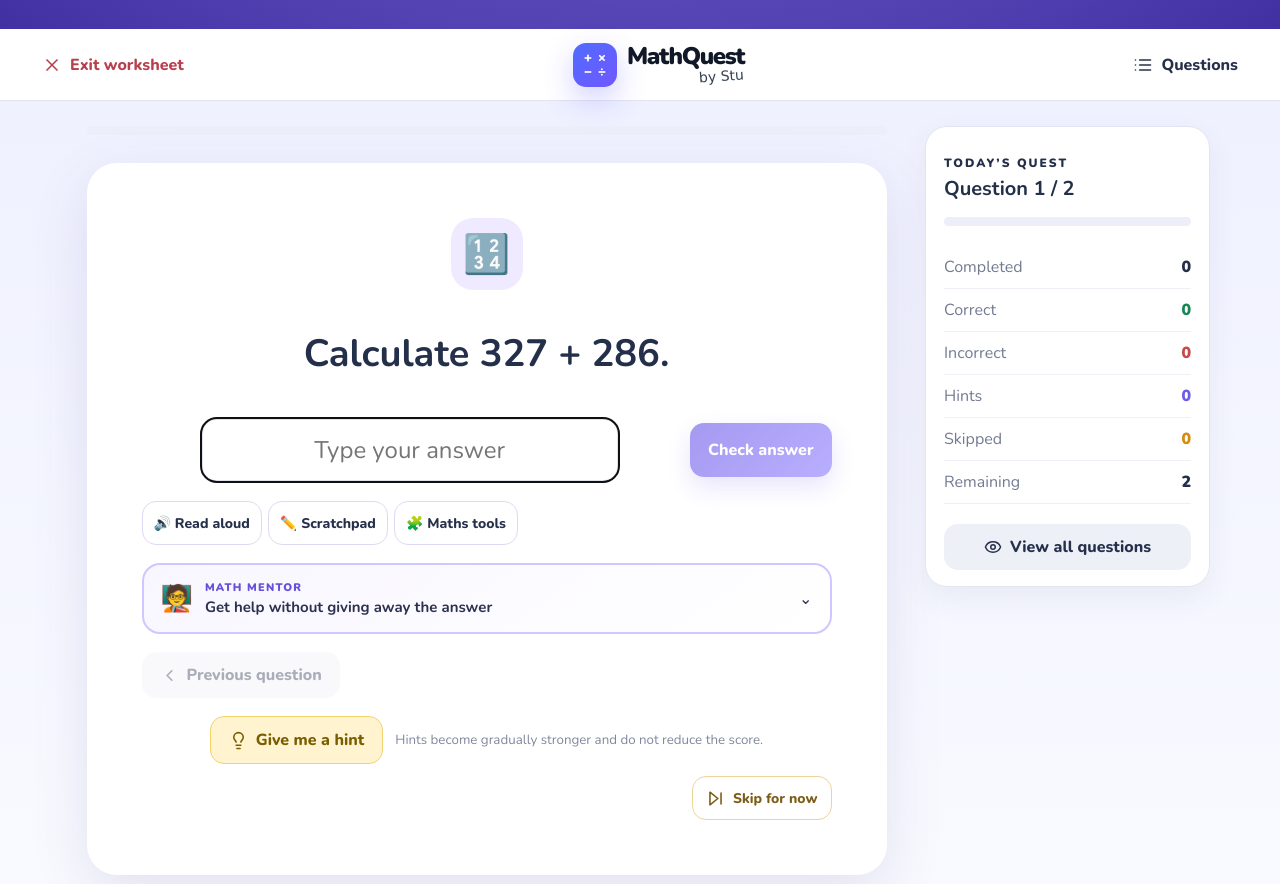
Test: v0.38 iPad landscape answer feedback › keeps Math Mentor optional from retry feedback
(page scrolled)
Type "500" into the field labelled "your answer". click: (410, 450)
box: [200,417,620,483]
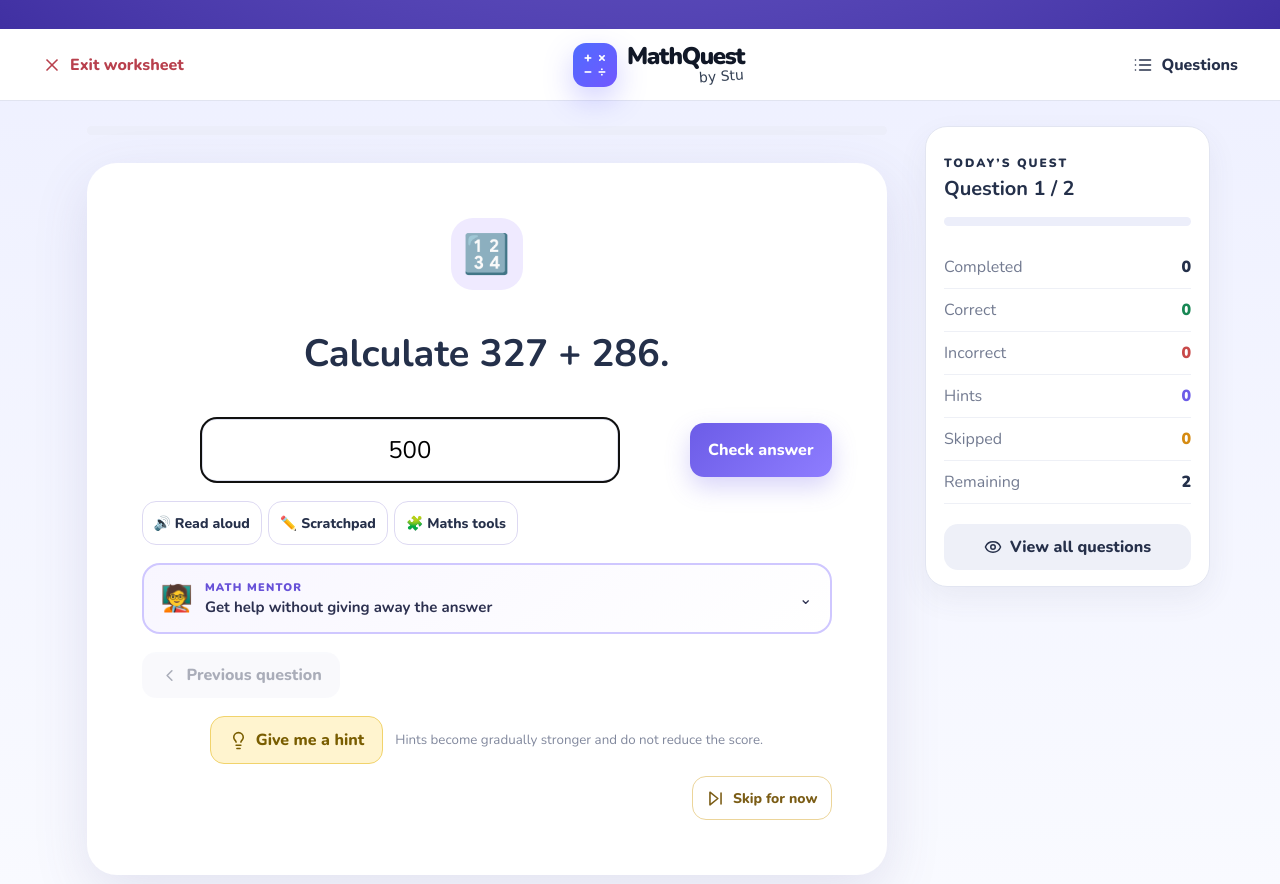
Press Enter in the field named "your answer", box [200,417,620,483]
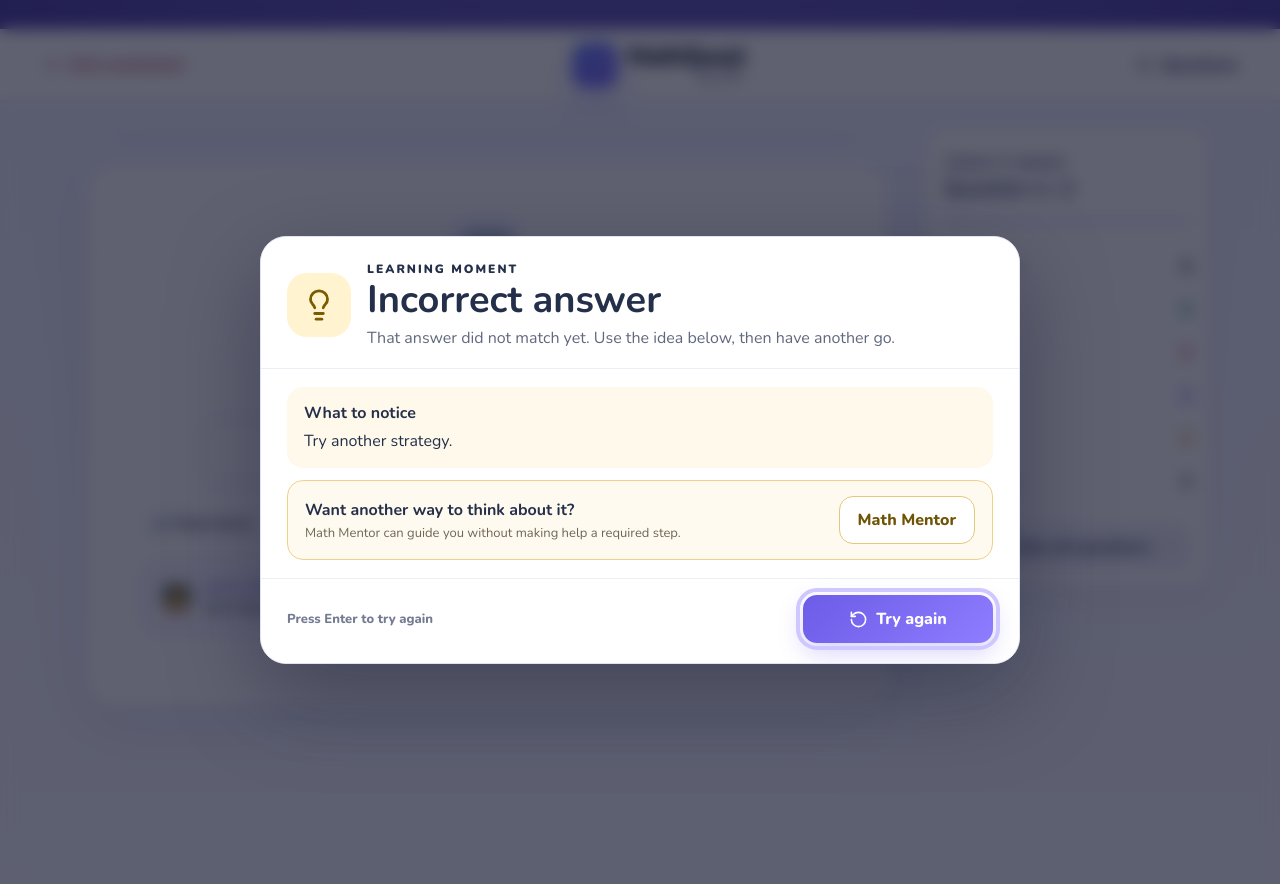
Expected: the dialog "Incorrect answer" is shown, [260,236,1020,664]
Click the button "Math Mentor". click: (907, 520)
box: [839,496,975,544]
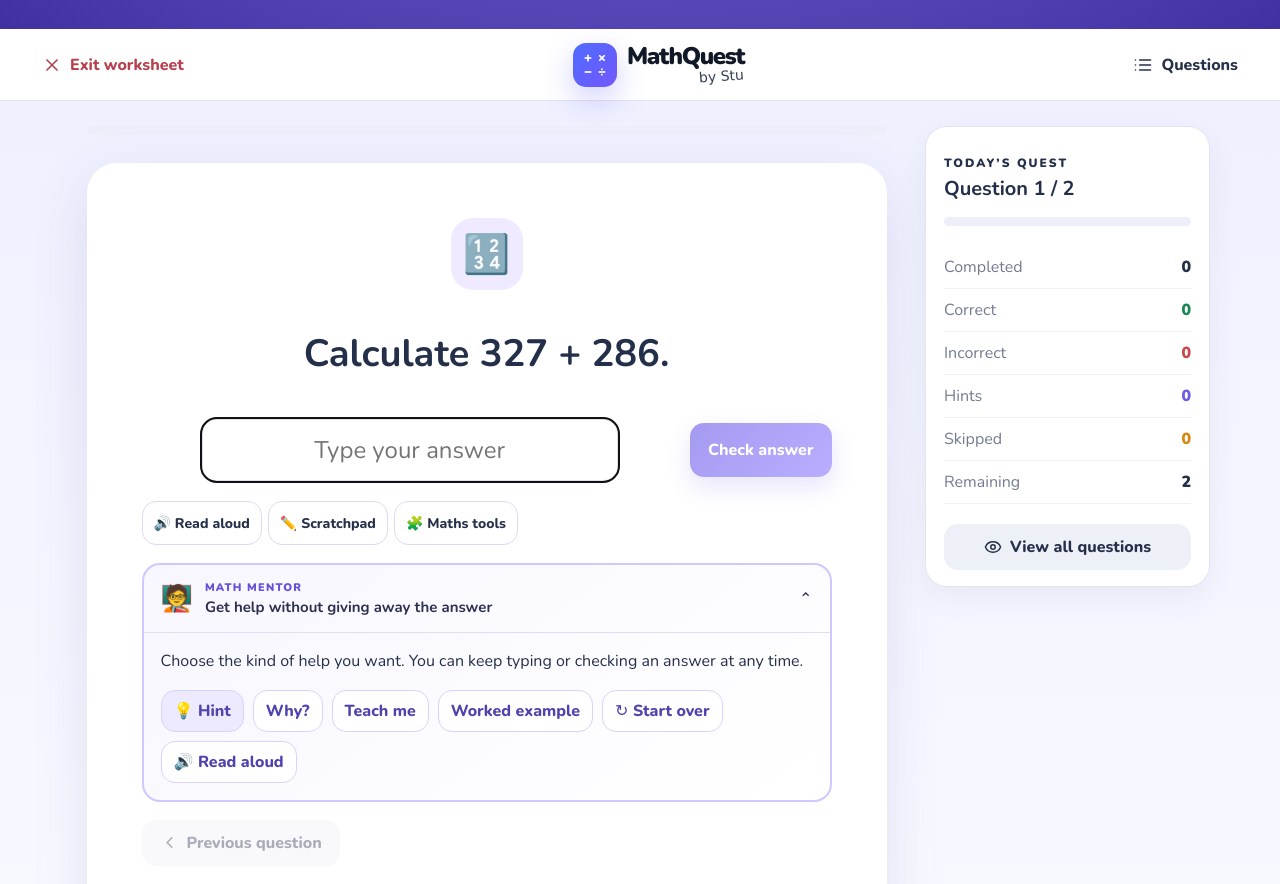
Expected: the heading "Incorrect answer" is gone
Expected: the button "🧑‍🏫 MATH MENTOR Get help without giving away the answer ⌃" is expanded, [144,565,830,632]
